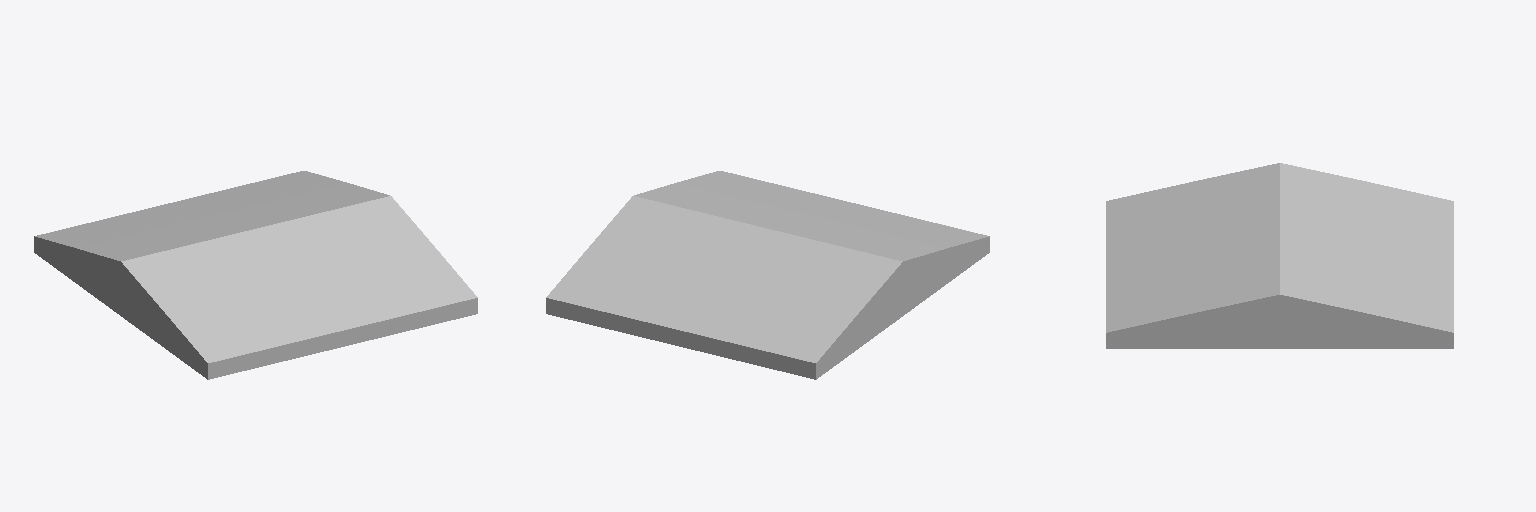
File: house6.obj
3 renders of one model, left to right at view 1: azimuth 30°, elevation 25°; view 2: azimuth 150°, elevation 25°; view 3: azimuth 270°, elevation 25°, orthographic.
Visible parts, largest first — view 1: 立方体.006; view 2: 立方体.006; view 3: 立方体.006.
Boxes of the visible parts, box(x1,y1,x2,y2) form: 立方体.006: box(34, 171, 477, 379); 立方体.006: box(546, 171, 989, 379); 立方体.006: box(1106, 163, 1453, 348).
Size of the model in its own units: 52 by 10.05 by 58.